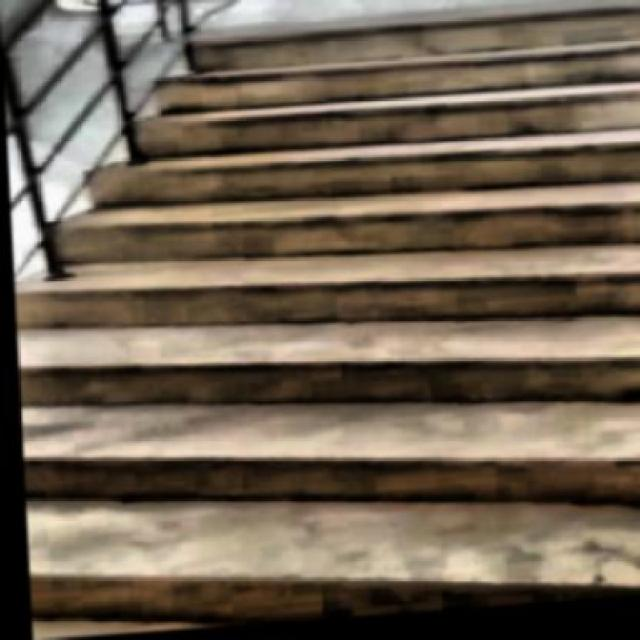stair: (1, 4, 638, 640)
